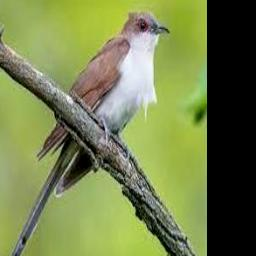Cuckoo: (4, 8, 170, 256)
